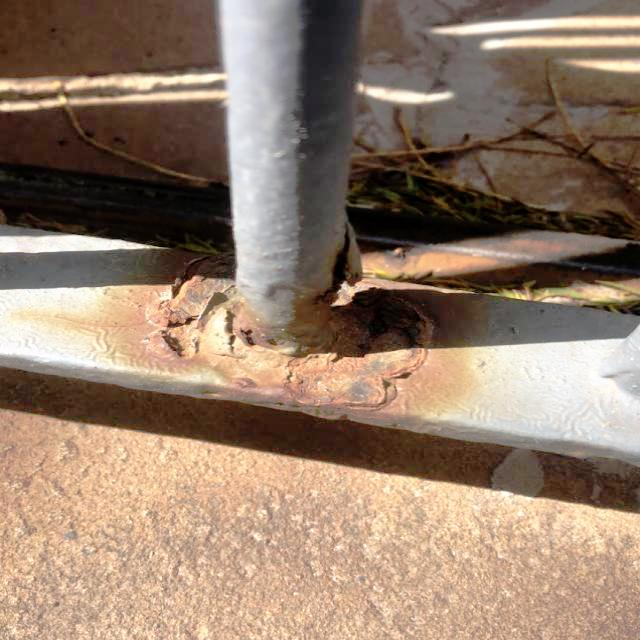Corrosion: (146, 271, 435, 418)
